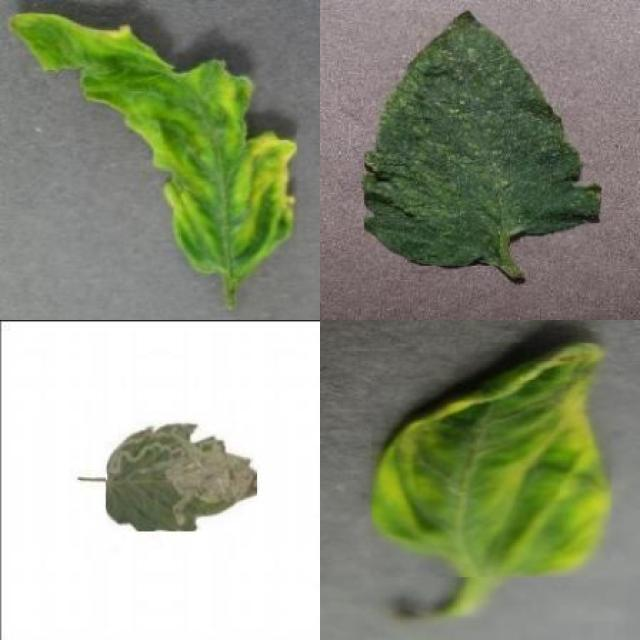Leaf Miner: (106, 420, 257, 531)
Spider Mites: (364, 9, 602, 265)
Yellow Leaf Curl Virus: (8, 14, 298, 277), (372, 343, 611, 577)
